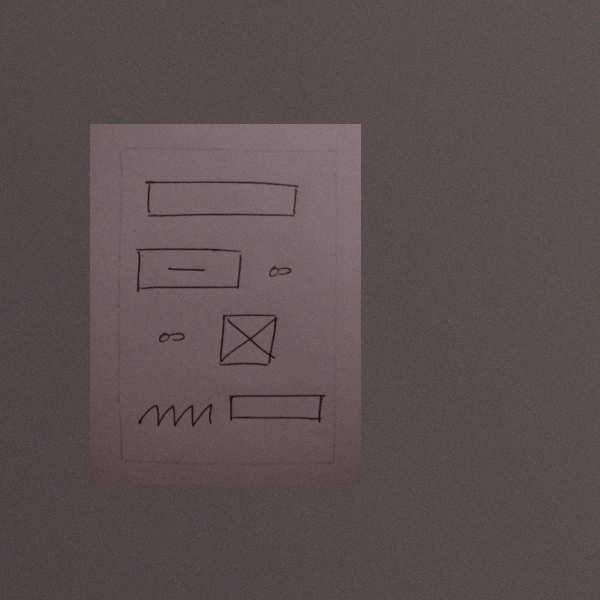button: (131, 244, 245, 293)
image: (213, 308, 277, 369)
switch: (154, 324, 191, 349), (262, 260, 296, 283)
text: (135, 398, 217, 431)
text_input: (141, 176, 303, 223), (226, 392, 329, 427)
